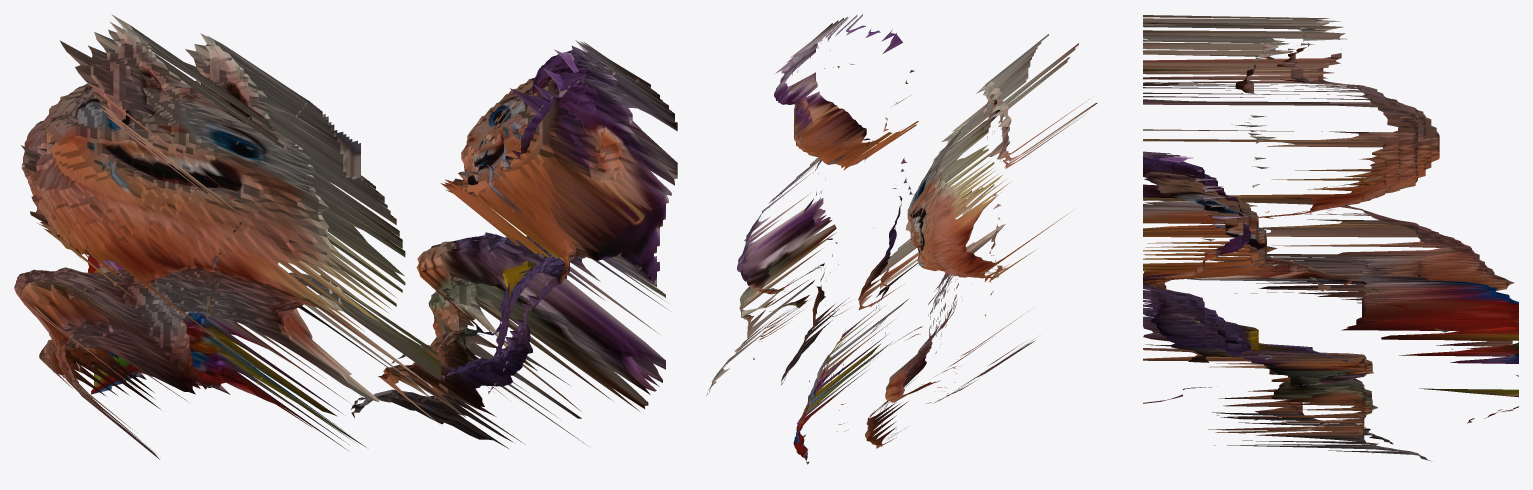
The model's file is frame_00438.glb.
3 renders of one model, left to right at view 1: azimuth 30°, elevation 25°; view 2: azimuth 150°, elevation 25°; view 3: azimuth 270°, elevation 25°, orthographic. The views are drawn at different scales.
Parts seen in each view (by area): view 1: geometry_0; view 2: geometry_0; view 3: geometry_0.
Boxes of the visible parts, x1,y1,x2,y2 form: geometry_0: (14,14,677,459); geometry_0: (706,14,1097,464); geometry_0: (1143,15,1518,461).
Size of the model in its own units: 0.1575 by 0.1626 by 0.16.
1 material, 1 textured.
